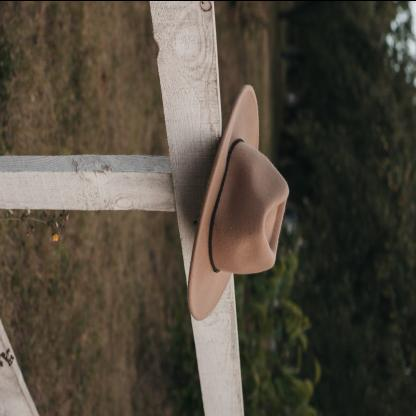hat: (184, 80, 292, 324)
